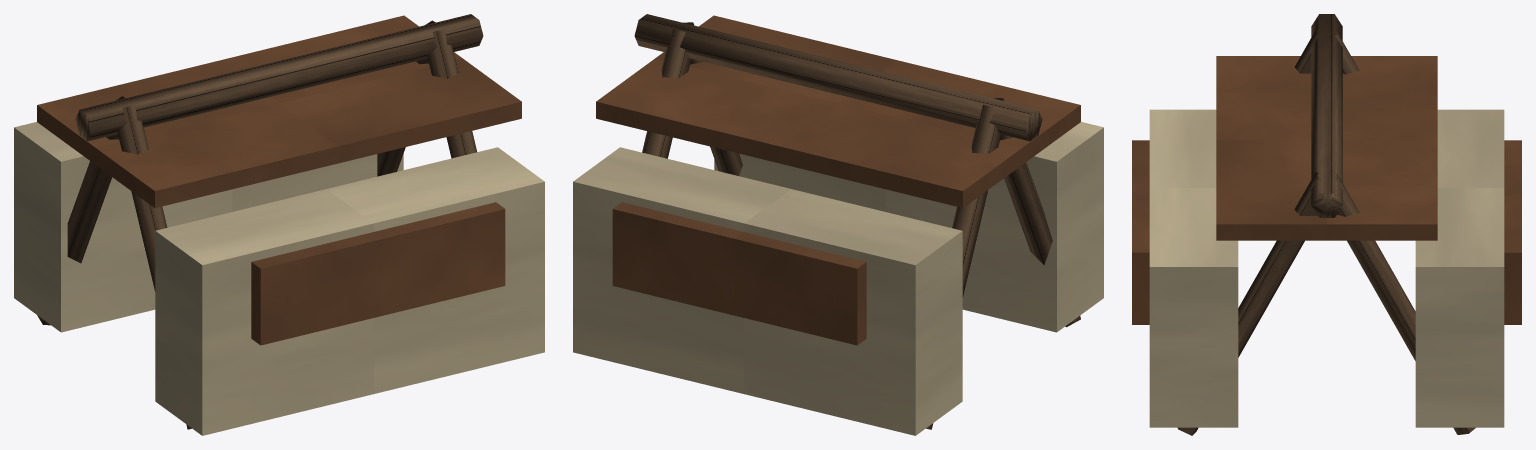
The model's file is PackSaddle_1.gltf.
The picture shows the model from 3 angles, left to right: view 1: azimuth 30°, elevation 25°; view 2: azimuth 150°, elevation 25°; view 3: azimuth 270°, elevation 25°; orthographic projection. The views are drawn at different scales.
Visible parts, largest first — view 1: PackSaddle_1; view 2: PackSaddle_1; view 3: PackSaddle_1.
Part boxes in pixels (left/top/right/bottom): PackSaddle_1: left=14, top=14, right=544, bottom=435; PackSaddle_1: left=573, top=14, right=1103, bottom=435; PackSaddle_1: left=1132, top=14, right=1521, bottom=435.
Bounding box in the file's own units: 0.96 × 0.6462 × 0.88.
3 materials, 3 textured.
